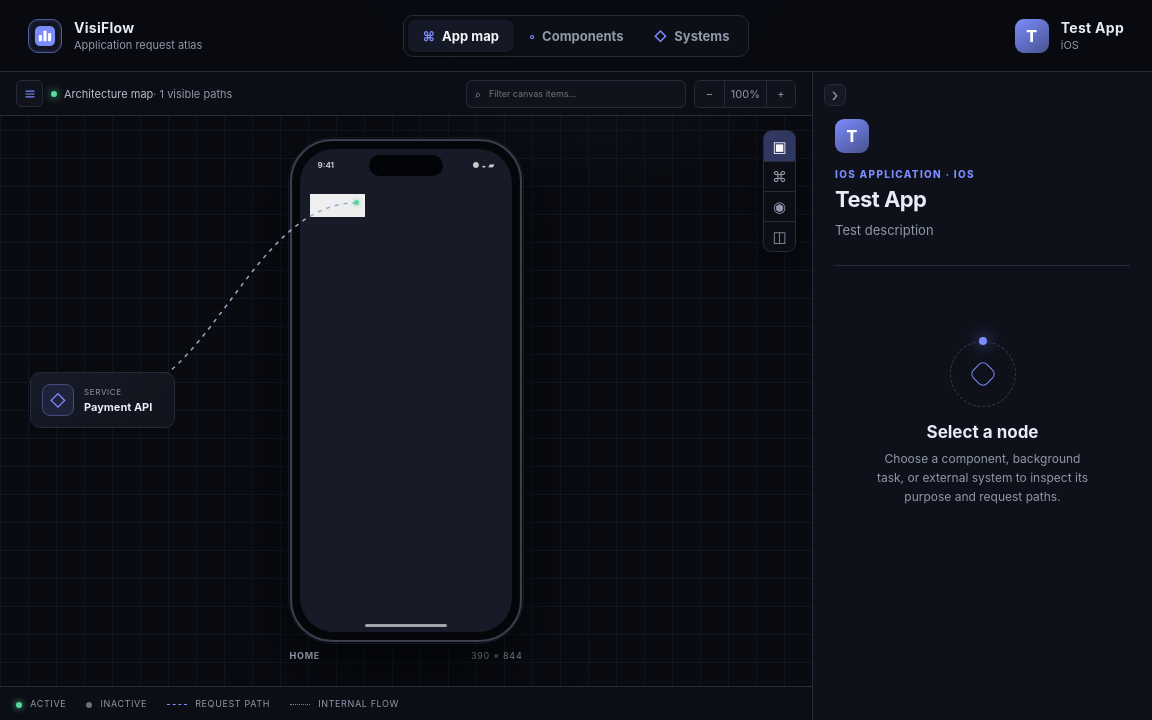
Scenario: VisiFlow › renders grouped, expandable screen hierarchy and switches nested screens
The width and height of the screenshot is (1152, 720).
Click the button named "Expand view filters".
click(30, 94)  # box [16,80,43,107]
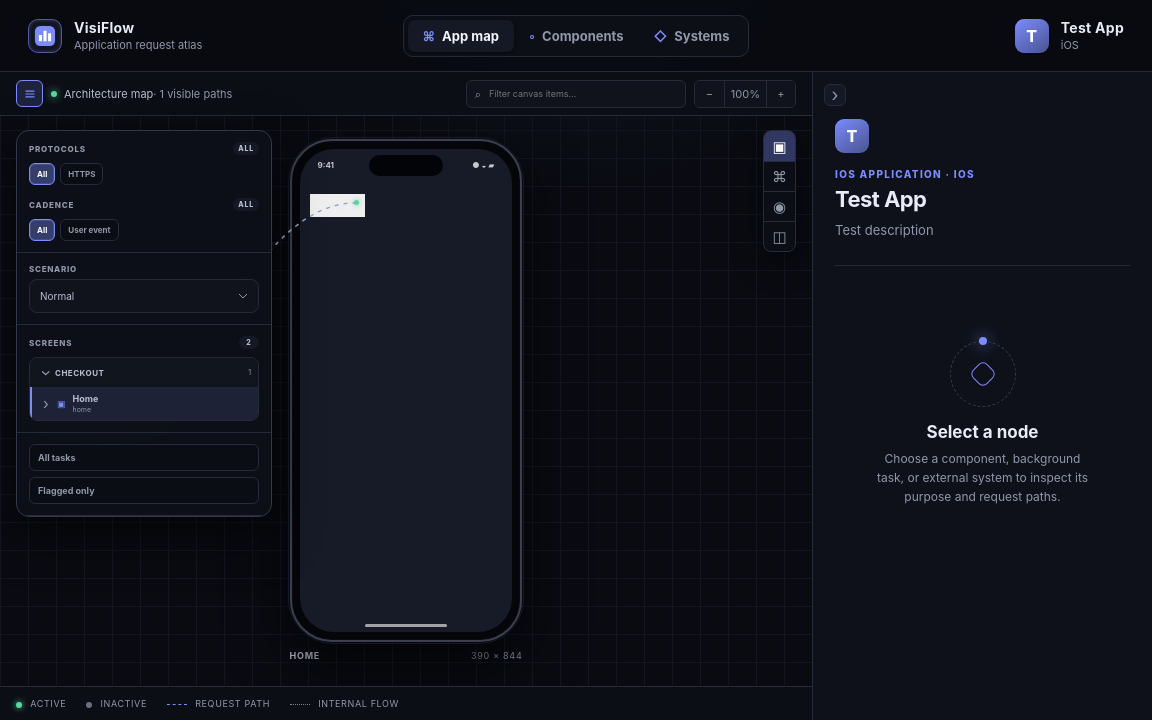
Expected: the button "› Checkout 1" is shown, [30,358,258,387]
Click the button named "Expand Home".
click(46, 404)  # box [36,387,56,420]
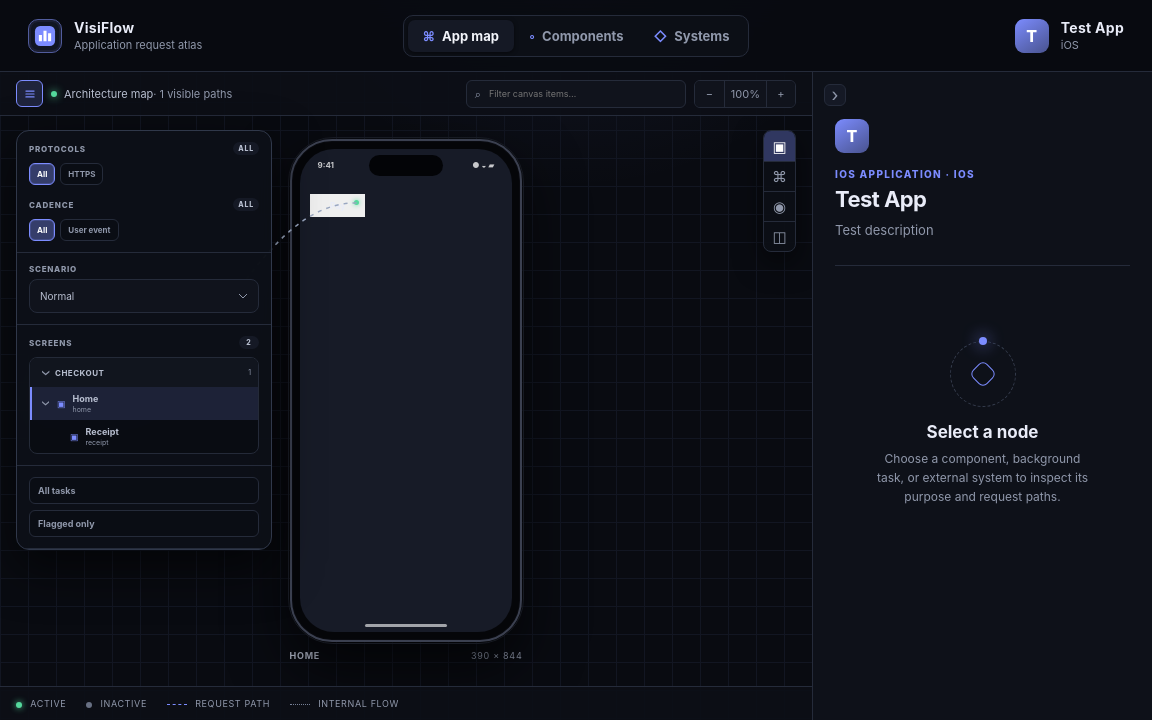
Click the button named "Receiptreceipt".
click(164, 436)  # box [69,420,258,453]
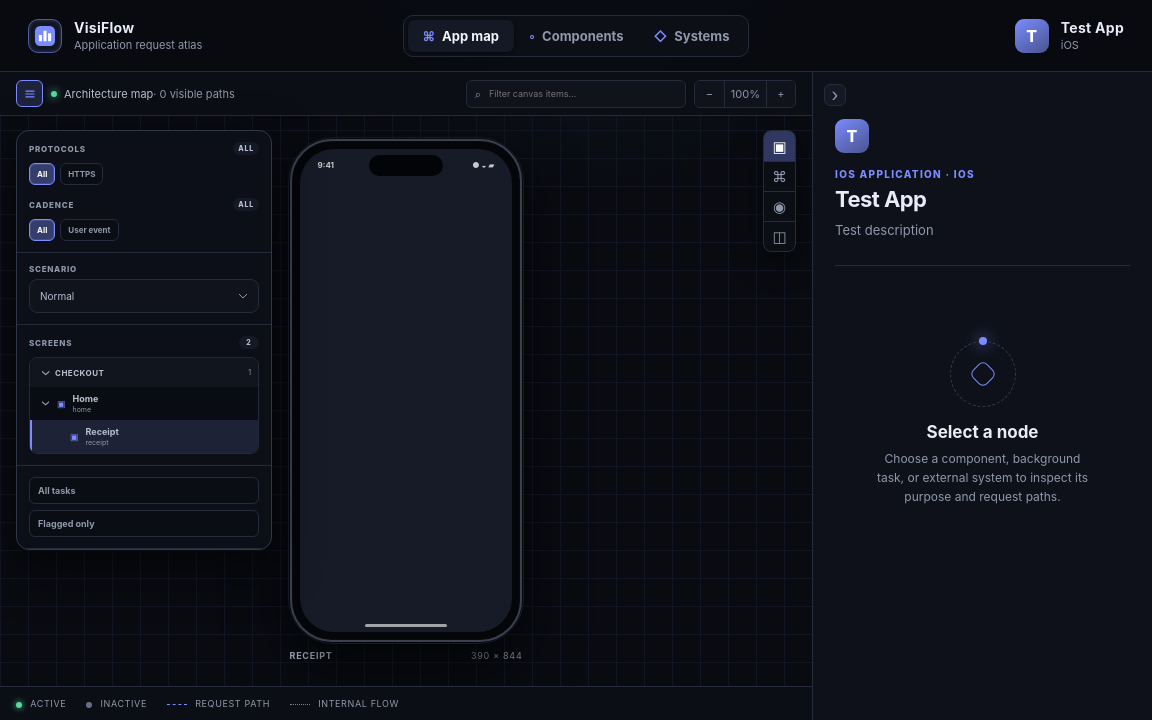
Expected: the text "Receipt" next to "390" is shown, [290,650,332,662]
